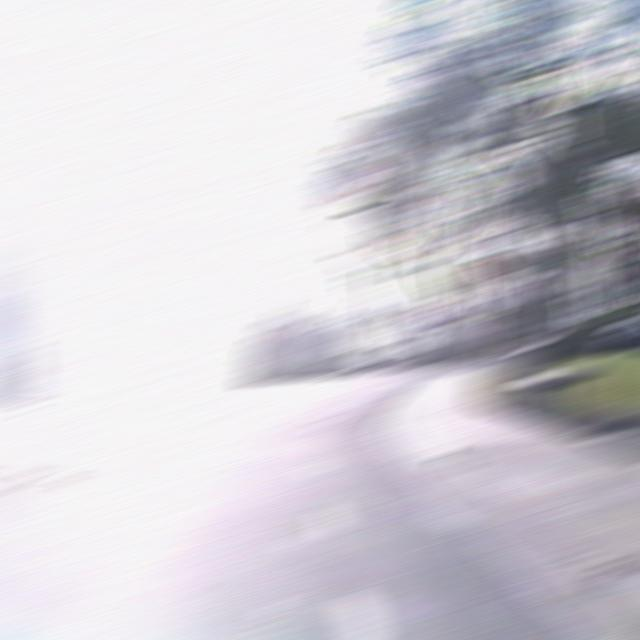stop_sign: (466, 255, 504, 286)
